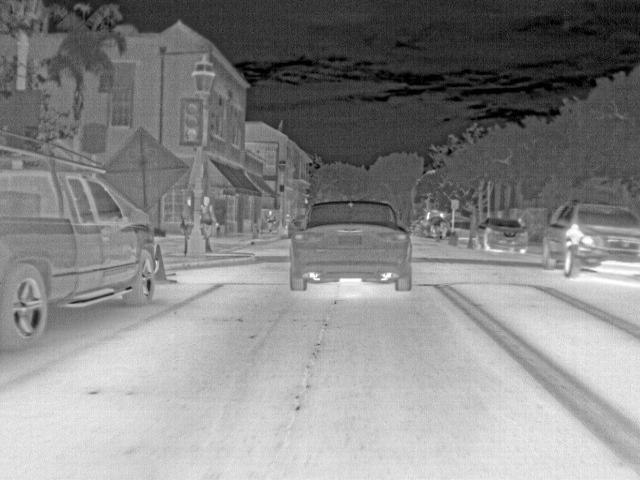car: (2, 168, 154, 352), (289, 198, 413, 292), (540, 200, 640, 278), (475, 218, 530, 254), (286, 213, 304, 239), (454, 219, 471, 242), (421, 220, 436, 238)
person: (200, 194, 215, 254), (181, 194, 193, 235), (264, 208, 277, 234), (438, 218, 450, 240)
